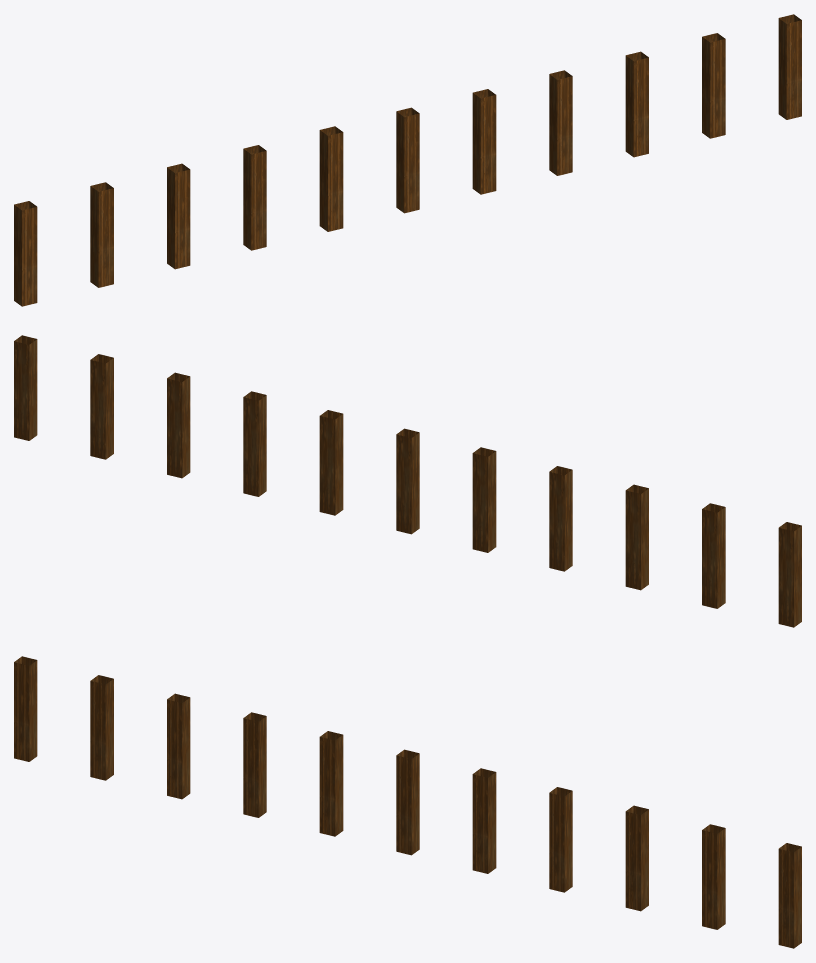
3 renders of one model, top to bottom at view 1: azimuth 30°, elevation 25°; view 2: azimuth 150°, elevation 25°; view 3: azimuth 330°, elevation 25°, orthographic.
Visible parts, largest first — view 1: Cube.981; view 2: Cube.981; view 3: Cube.981.
Part boxes in pixels (x1,y1,x2,y2): Cube.981: (14,14,801,306); Cube.981: (14,335,801,627); Cube.981: (14,656,801,948).
Size of the model in its own units: 708 by 83.51 by 12.69.
Materials: 1 (1 with a texture image).
